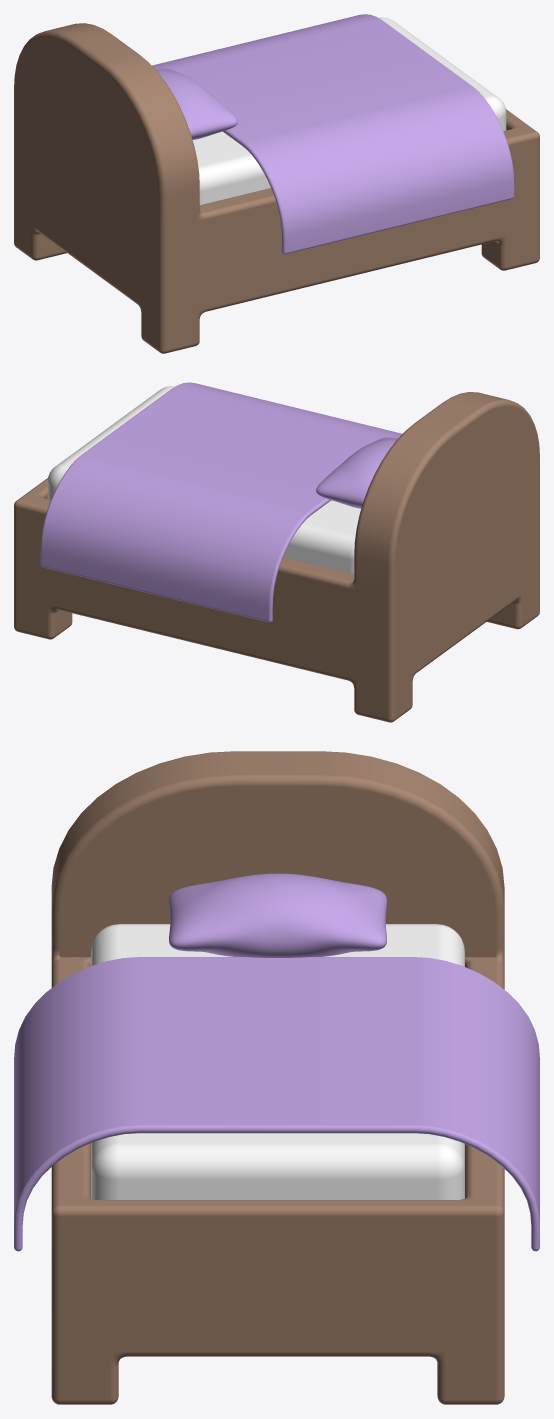
The model's file is bed.glb.
3 views of the same model, one above another, from view 1: azimuth 30°, elevation 25°; view 2: azimuth 150°, elevation 25°; view 3: azimuth 270°, elevation 25° (orthographic). The views are drawn at different scales.
Visible parts, largest first — view 1: Bed, Bedding, Mattress, Pillow; view 2: Bed, Bedding, Mattress, Pillow; view 3: Bed, Bedding, Mattress, Pillow.
Part boxes in pixels (left/top/right/bottom): Bed: left=14, top=23, right=539, bottom=353; Bedding: left=152, top=14, right=514, bottom=254; Mattress: left=192, top=17, right=506, bottom=205; Pillow: left=156, top=68, right=237, bottom=139; Bed: left=14, top=392, right=539, bottom=722; Bedding: left=40, top=382, right=402, bottom=622; Mattress: left=47, top=386, right=360, bottom=573; Pillow: left=316, top=437, right=397, bottom=508; Bed: left=51, top=751, right=504, bottom=1404; Bedding: left=14, top=957, right=539, bottom=1251; Mattress: left=91, top=924, right=464, bottom=1199; Pillow: left=169, top=873, right=386, bottom=957.
Bounding box in the file's own units: 3.84 × 2.4 × 3.03.
